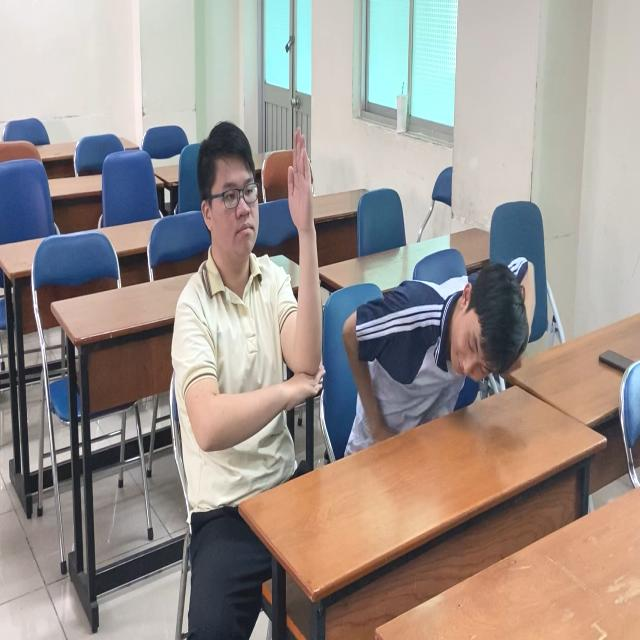raise_hand: (176, 109, 326, 515)
